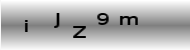9: (96, 12, 109, 25)
J: (53, 12, 60, 29)
Z: (72, 25, 86, 39)
i: (23, 19, 29, 33)
m: (119, 15, 139, 26)
